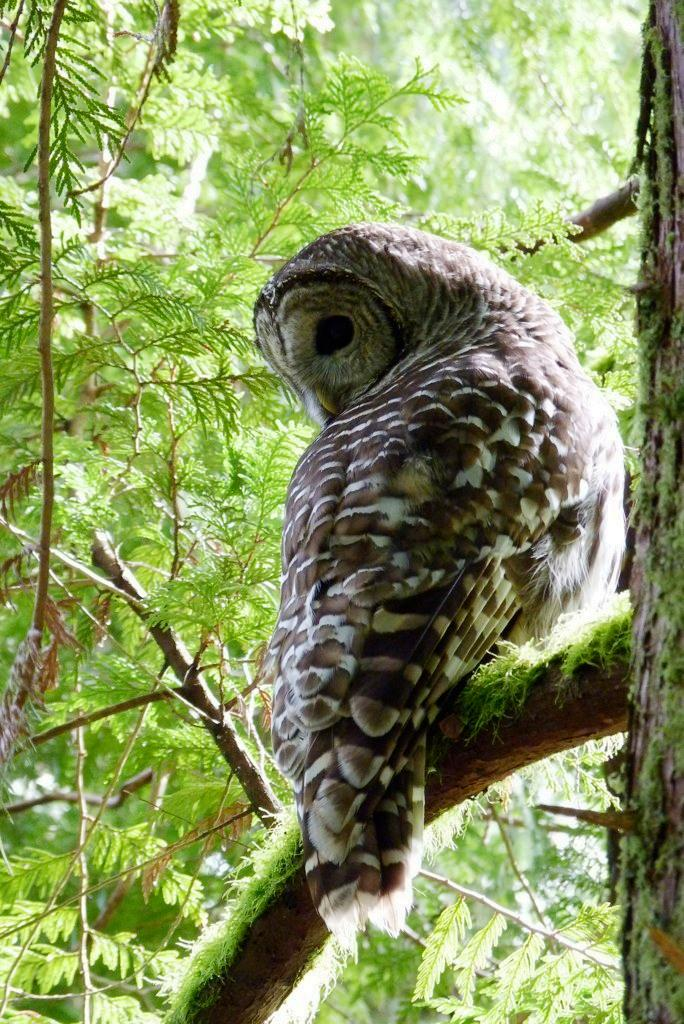Owl: (251, 222, 625, 965)
